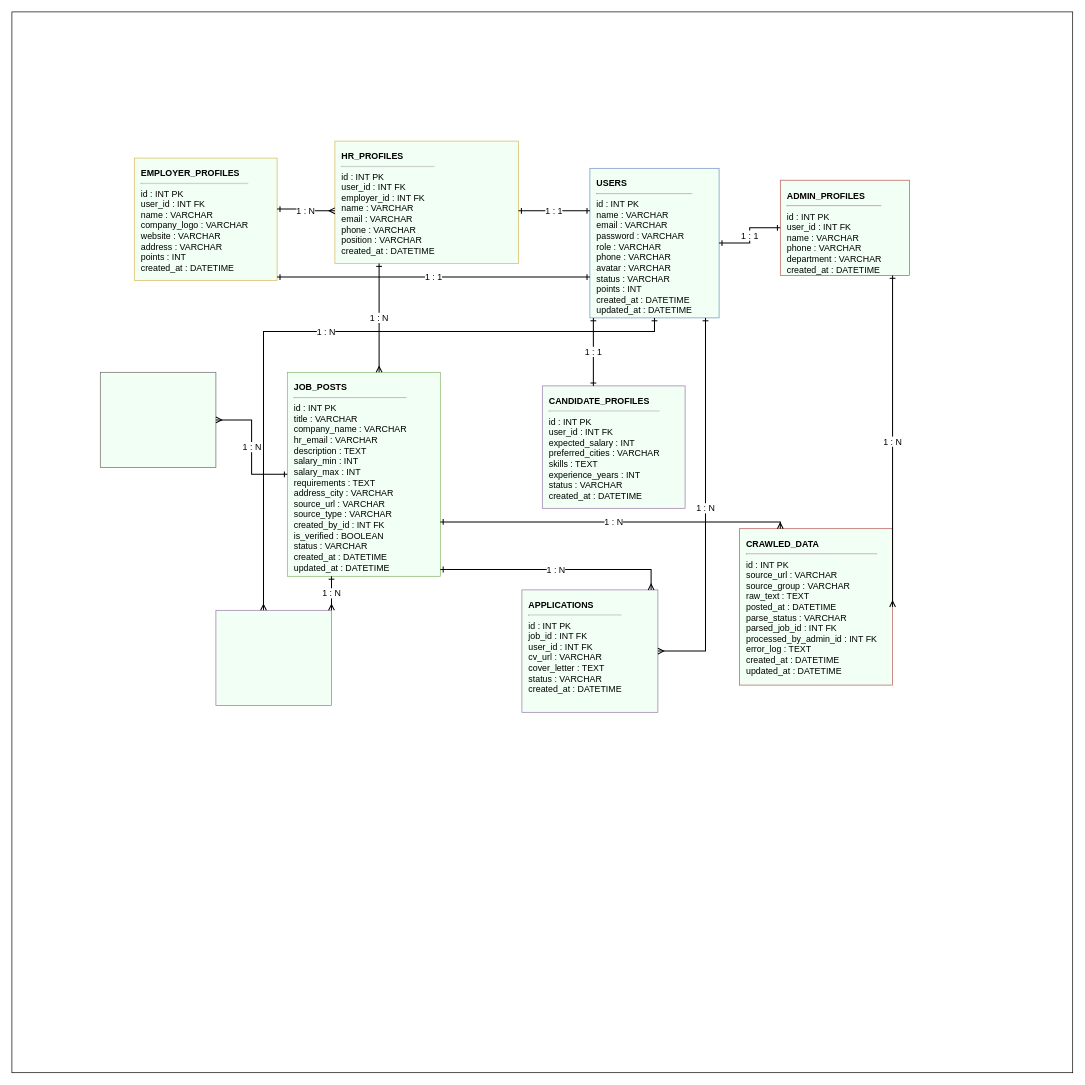
Some shapes in this 1085 by 1085 pixel diagram are drawn without their labels. The centre of each missing label's shape, as x and y in pixels:
COMPANY_IMAGES id : INT PK job_id : INT FK url : VARCHAR created_at : DATETIME: [158,420]
SAVED_JOBS id : INT PK user_id : INT FK job_id : INT FK created_at : DATETIME: [273,658]
